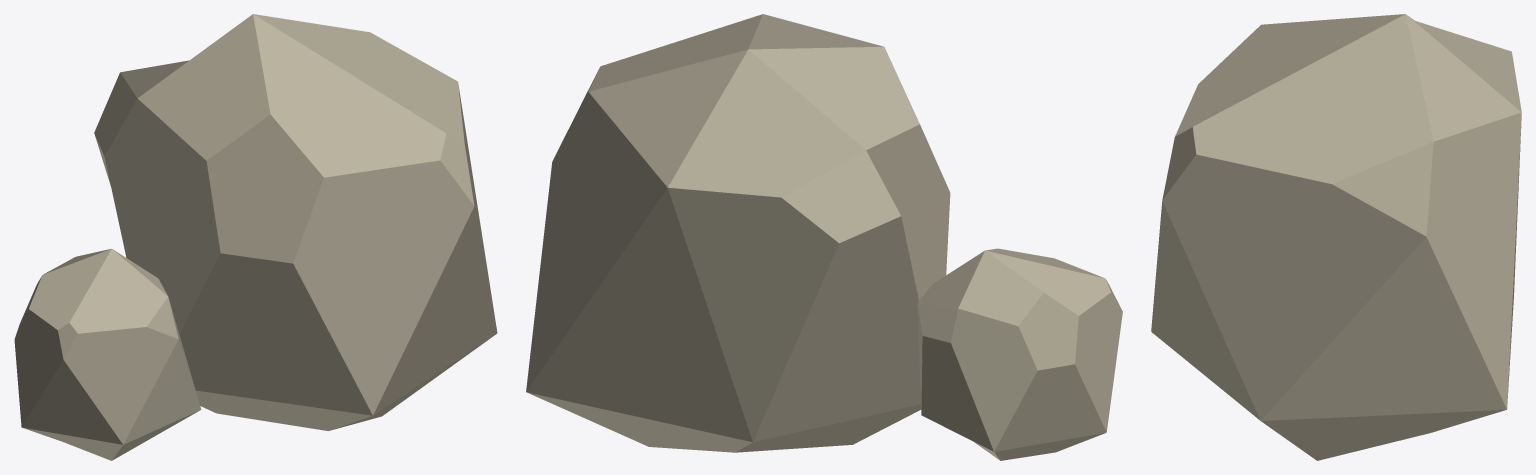
Rendered from STONE #1.fbx.
3 views of the same model, side by side, from view 1: azimuth 30°, elevation 25°; view 2: azimuth 150°, elevation 25°; view 3: azimuth 270°, elevation 25° (orthographic). The views are drawn at different scales.
Visible parts, largest first — view 1: Icosphere.001, Icosphere; view 2: Icosphere.001, Icosphere; view 3: Icosphere.001.
Part boxes in pixels (box(x1,y1,x2,y2)): Icosphere.001: box(94, 14, 497, 430); Icosphere: box(14, 248, 201, 460); Icosphere.001: box(526, 14, 950, 452); Icosphere: box(917, 248, 1122, 460); Icosphere.001: box(1151, 14, 1521, 460).
Size of the model in its own units: 585 by 485 by 404.
